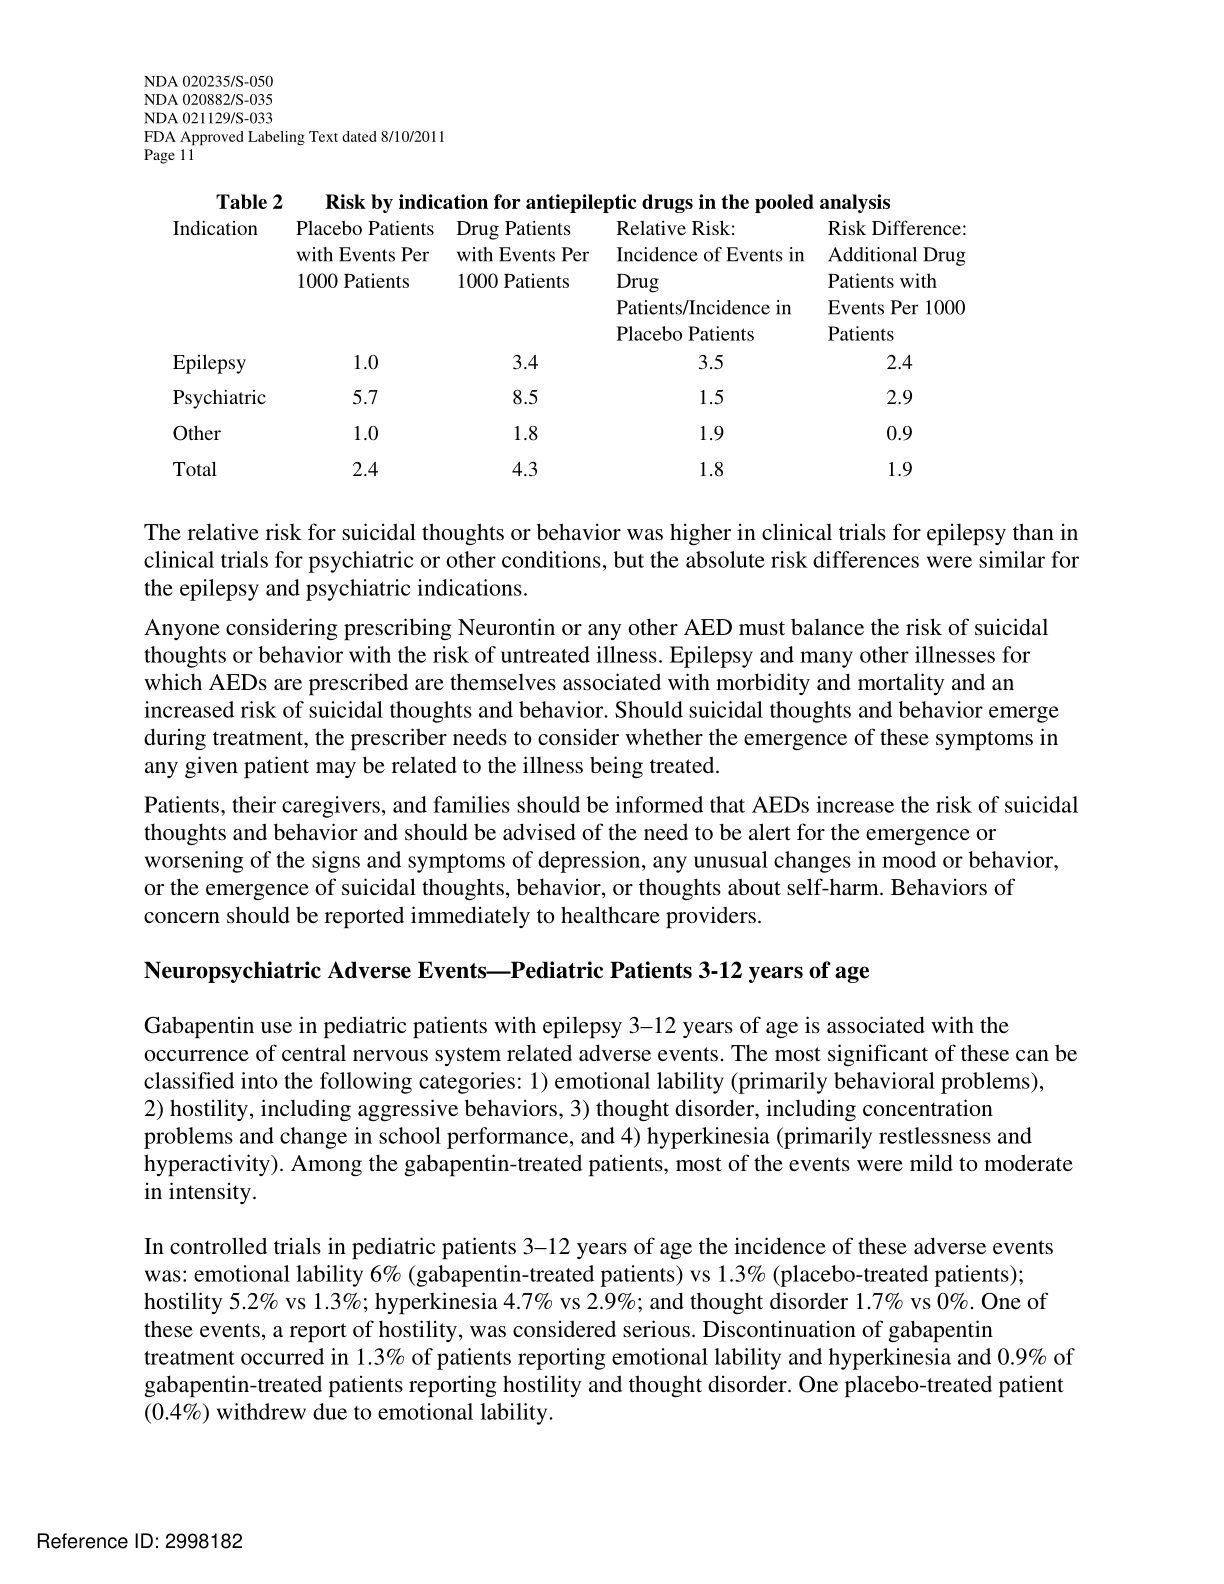nolines: (172, 219, 969, 480)
